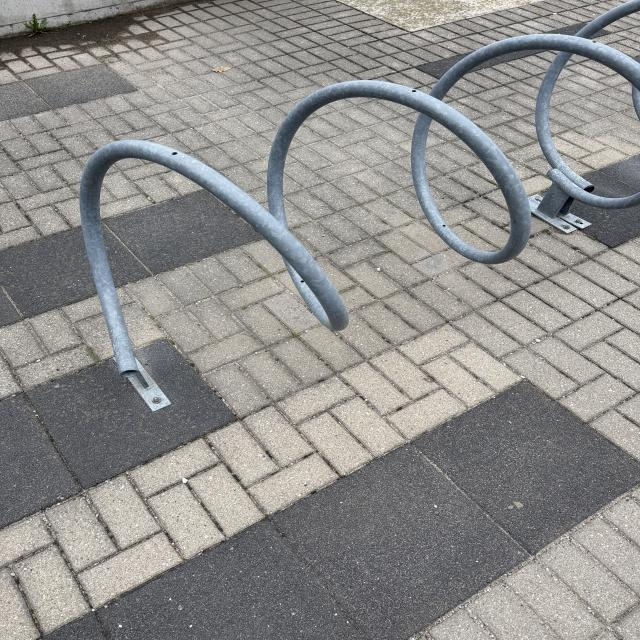Bicycle Rack: (79, 6, 640, 410)
